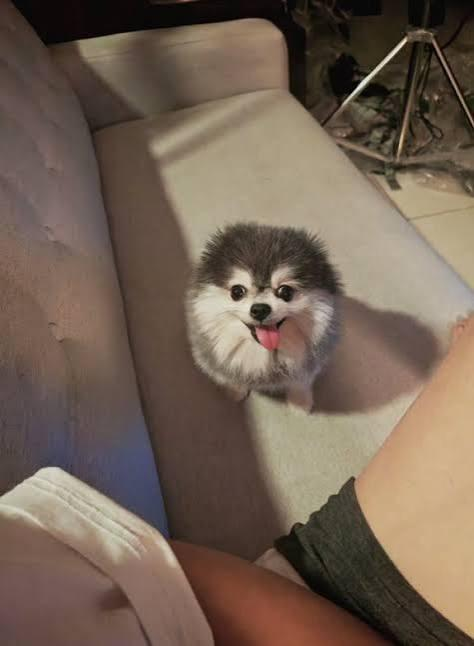adult_dog: (183, 220, 344, 415)
